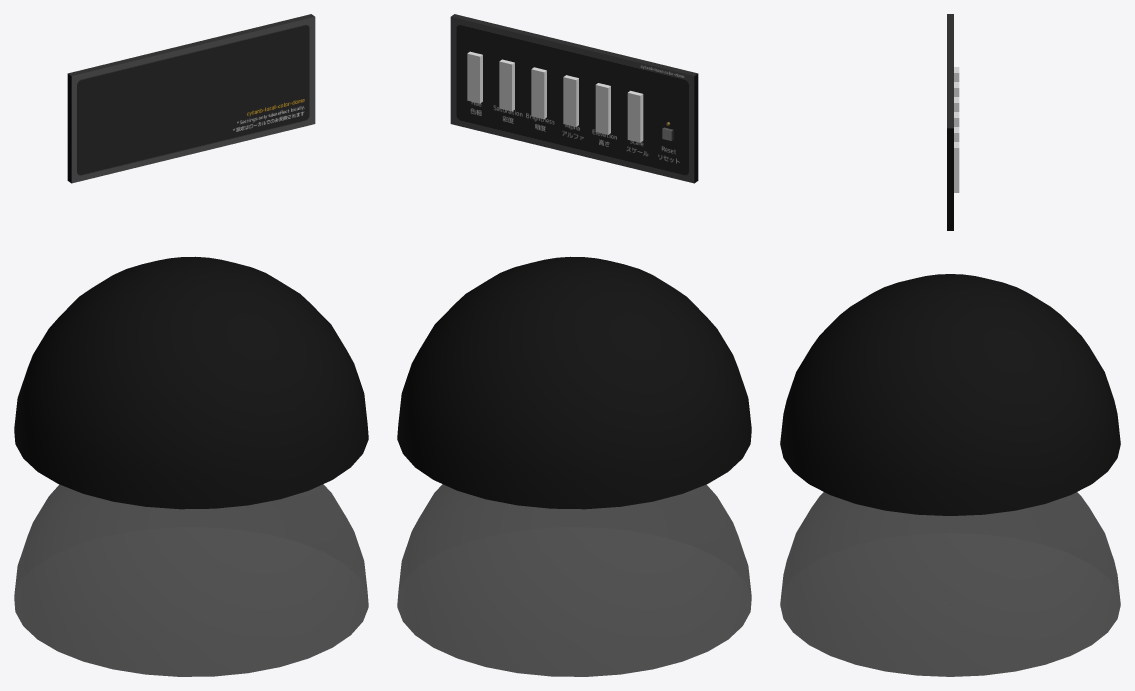
File: cytanb-local-color-dome.fbx
3 views of the same model, side by side, from view 1: azimuth 30°, elevation 25°; view 2: azimuth 150°, elevation 25°; view 3: azimuth 270°, elevation 25° (orthographic). The views are drawn at different scales.
Parts seen in each view (by area): view 1: opaque-dome, alpha-dome, dome-controller; view 2: opaque-dome, alpha-dome, dome-controller, scale-switch, brightness-switch, saturation-switch, hue-switch, alpha-switch, elevation-switch; view 3: opaque-dome, alpha-dome, dome-controller.
Part boxes in pixels (left/top/right/bottom): opaque-dome: left=14, top=256, right=368, bottom=509; alpha-dome: left=14, top=484, right=368, bottom=676; dome-controller: left=67, top=14, right=315, bottom=183; opaque-dome: left=397, top=256, right=751, bottom=509; alpha-dome: left=397, top=484, right=751, bottom=676; dome-controller: left=450, top=14, right=698, bottom=183; scale-switch: left=627, top=90, right=643, bottom=142; brightness-switch: left=531, top=67, right=546, bottom=119; saturation-switch: left=499, top=59, right=514, bottom=111; hue-switch: left=467, top=51, right=482, bottom=103; alpha-switch: left=563, top=75, right=578, bottom=126; elevation-switch: left=595, top=83, right=610, bottom=134; opaque-dome: left=780, top=274, right=1120, bottom=515; alpha-dome: left=780, top=492, right=1120, bottom=676; dome-controller: left=947, top=14, right=953, bottom=230.
Size of what is drawn, in the model's own units: 0.96 by 1.66 by 0.96.
